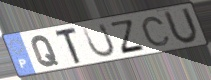C: (140, 15, 172, 47)
Q: (30, 35, 61, 69)
T: (54, 25, 84, 66)
U: (162, 6, 201, 46), (80, 22, 117, 59)
Z: (109, 19, 148, 56)
